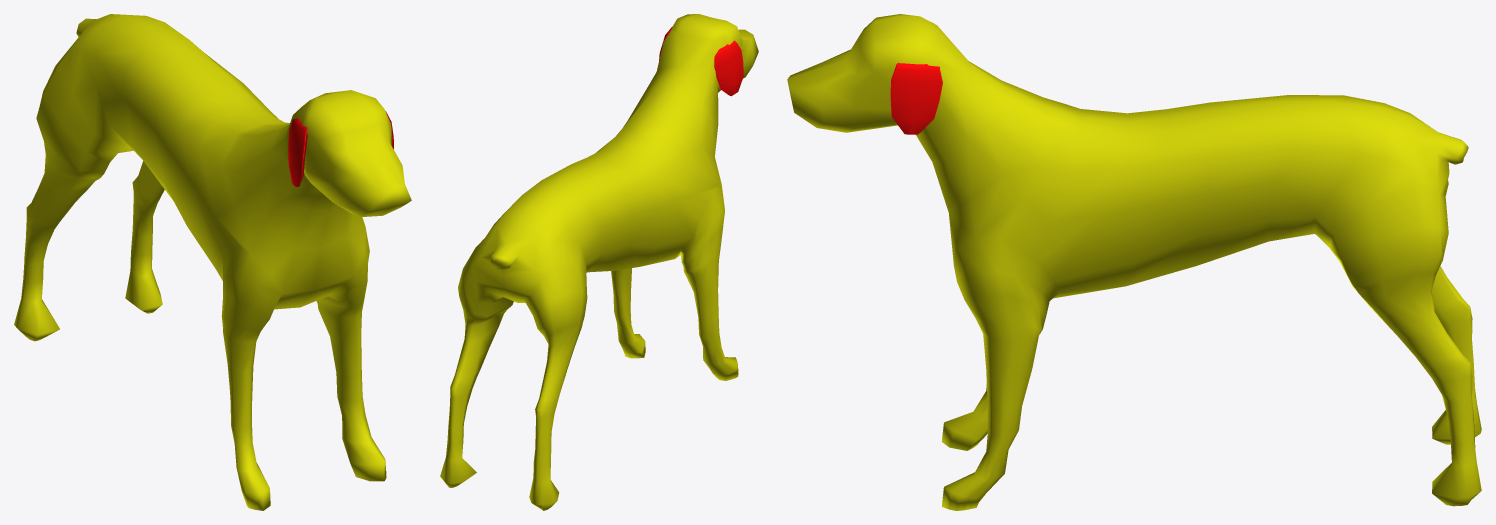
File: dog.fbx
The picture shows the model from 3 angles, left to right: view 1: azimuth 30°, elevation 25°; view 2: azimuth 150°, elevation 25°; view 3: azimuth 270°, elevation 25°; orthographic projection. The views are drawn at different scales.
Parts seen in each view (by area): view 1: body; view 2: body; view 3: body.
Boxes of the visible parts, x1,y1,x2,y2 form: body: (14,14,411,510); body: (440,14,758,510); body: (787,14,1481,510).
Size of the model in its own units: 1.81 by 4.96 by 6.93.
